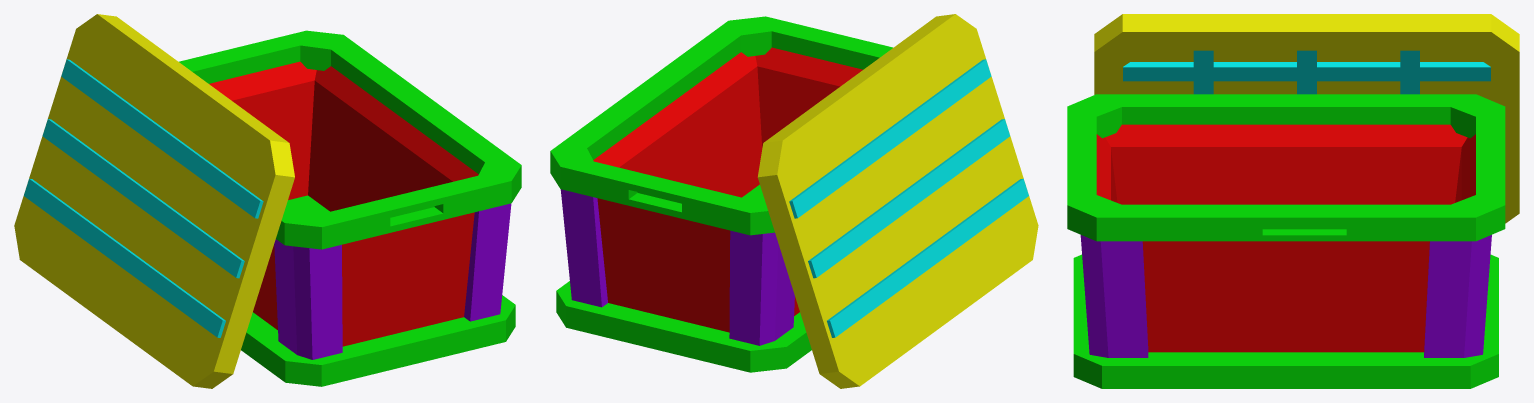
The model's file is TOY_BOX_2.fbx.
3 renders of one model, left to right at view 1: azimuth 30°, elevation 25°; view 2: azimuth 150°, elevation 25°; view 3: azimuth 270°, elevation 25°, orthographic. The views are drawn at different scales.
Parts seen in each view (by area): view 1: polySurface97; view 2: polySurface97; view 3: polySurface97.
Part boxes in pixels (left/top/right/bottom): polySurface97: left=14, top=14, right=521, bottom=388; polySurface97: left=550, top=14, right=1038, bottom=388; polySurface97: left=1067, top=14, right=1519, bottom=388.
Size of the model in its own units: 11.33 by 8.08 by 13.14.
